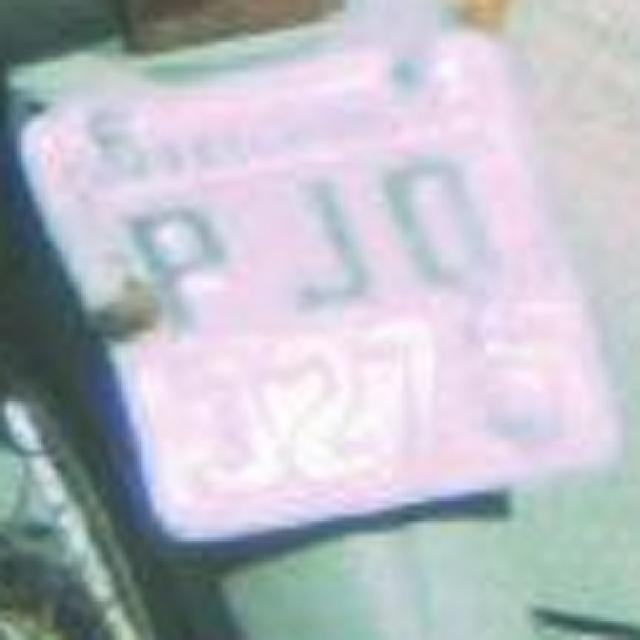2: (228, 320, 384, 495)
3: (152, 331, 300, 504)
5: (432, 284, 580, 456)
J: (252, 160, 392, 325)
O: (372, 132, 508, 312)
P: (92, 176, 260, 349)
